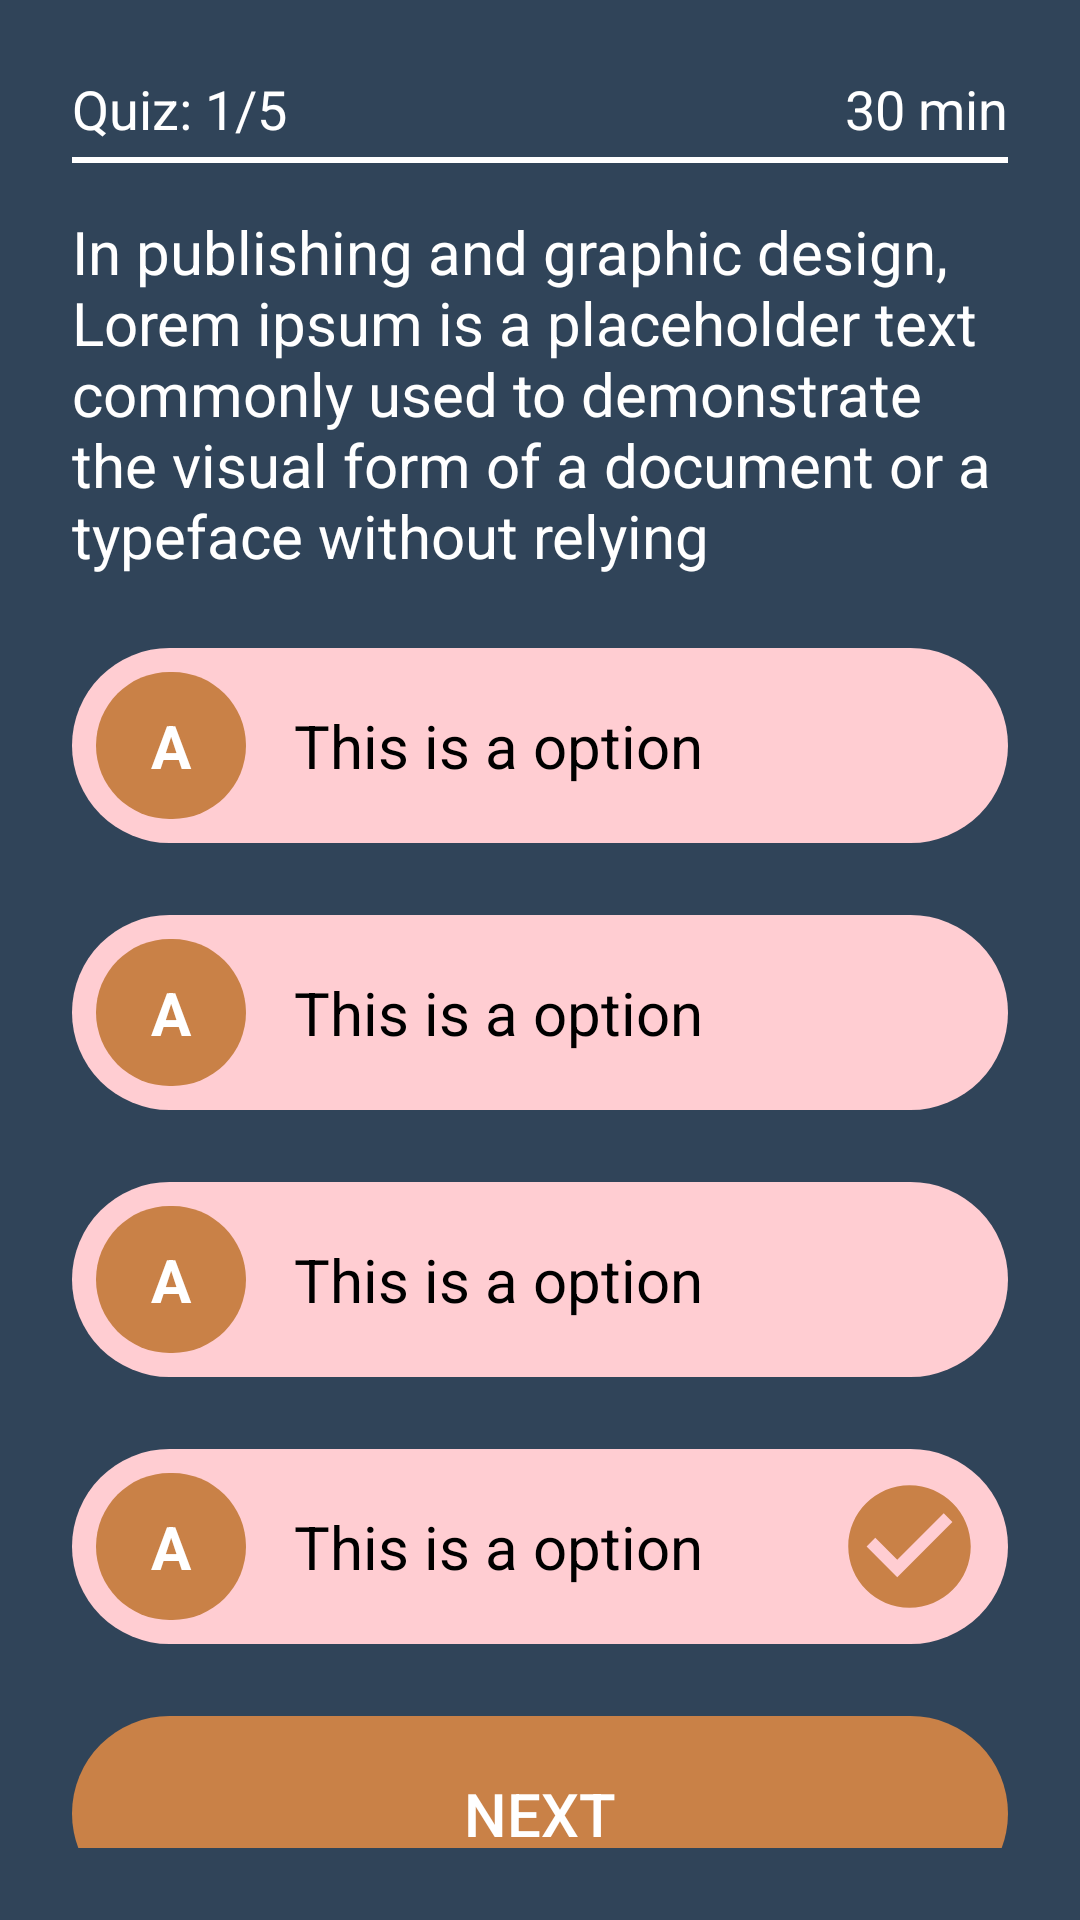

Where to tap for icons on this 1080w x 1920h app screen, as (x=x, y=y):
check circle: (x=909, y=1546)
